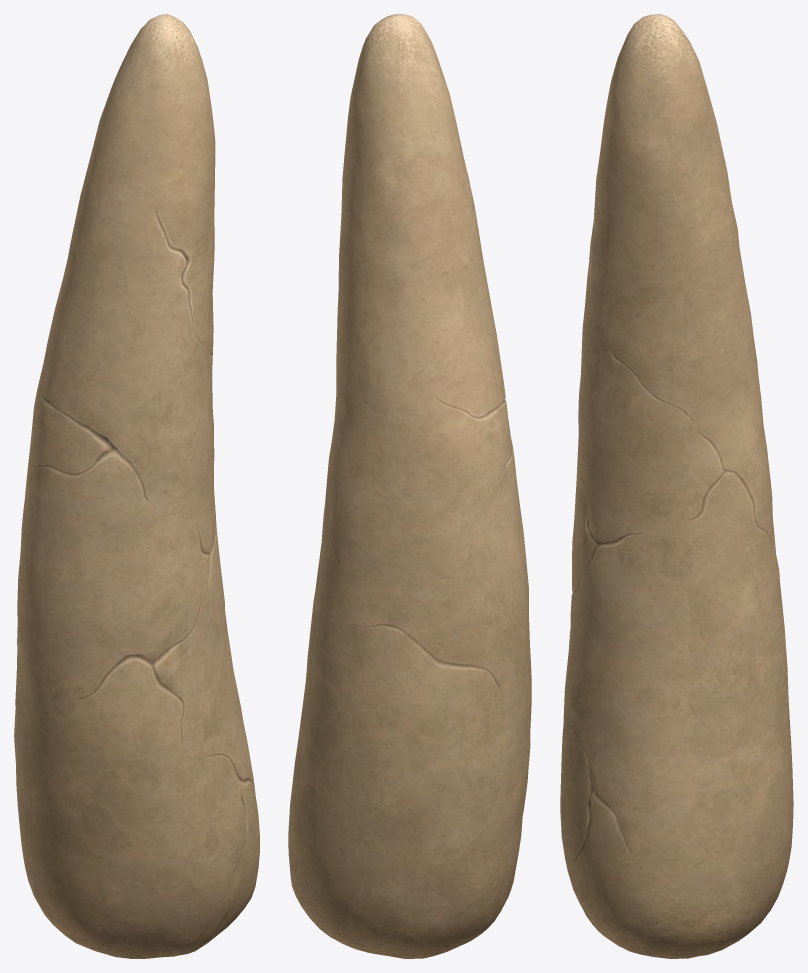
Rendered from tb_bone_02c.glb.
The picture shows the model from 3 angles, left to right: view 1: azimuth 30°, elevation 25°; view 2: azimuth 150°, elevation 25°; view 3: azimuth 270°, elevation 25°; orthographic projection.
Visible parts, largest first — view 1: tb_bone_02c; view 2: tb_bone_02c; view 3: tb_bone_02c.
Boxes of the visible parts, bbox=[...] form: tb_bone_02c: bbox=[14, 14, 259, 958]; tb_bone_02c: bbox=[288, 14, 531, 958]; tb_bone_02c: bbox=[560, 14, 793, 958].
Bounding box in the file's own units: 1.27 × 5.19 × 1.18.
Materials: 1 (1 with a texture image).
